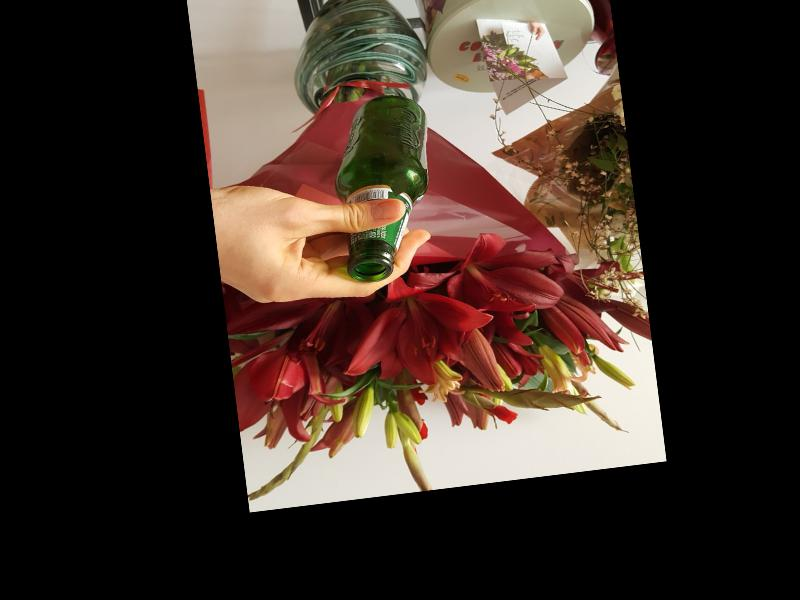Beer: (325, 91, 446, 283)
